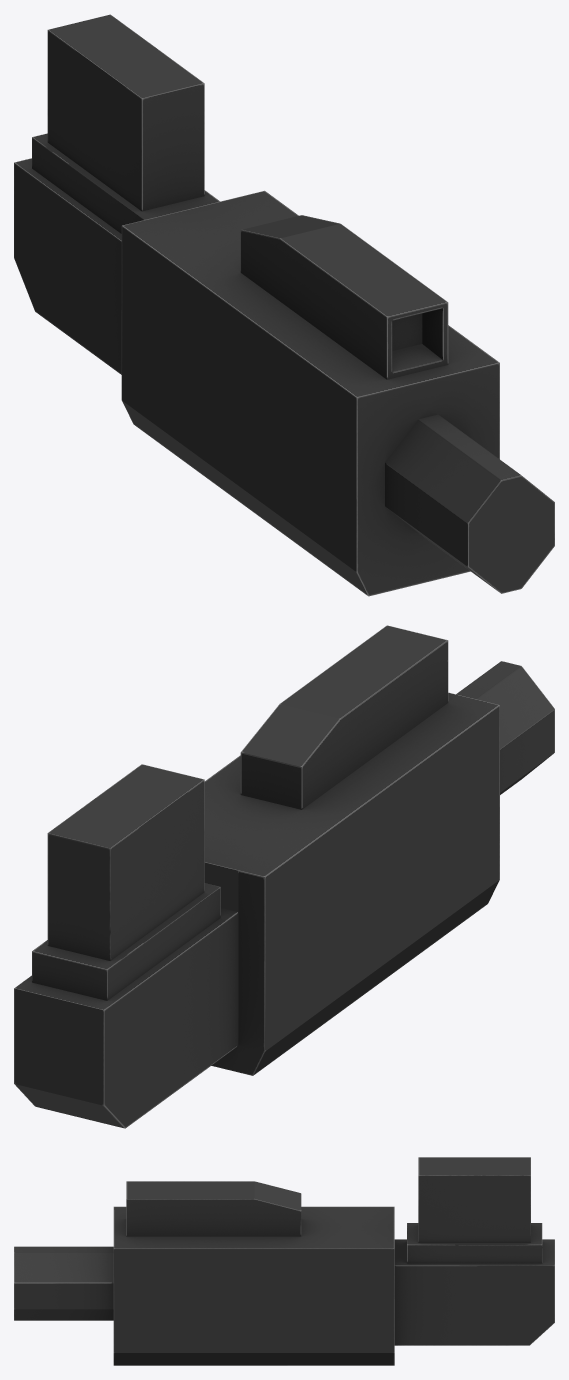
3 views of the same model, one above another, from view 1: azimuth 30°, elevation 25°; view 2: azimuth 150°, elevation 25°; view 3: azimuth 270°, elevation 25° (orthographic). The views are drawn at different scales.
Visible parts, largest first — view 1: Cube.086; view 2: Cube.086; view 3: Cube.086.
Part boxes in pixels (<box>): Cube.086: <box>14,14,554,596</box>; Cube.086: <box>14,625,554,1128</box>; Cube.086: <box>14,1157,554,1365</box>.
Bounding box in the file's own units: 0.703 × 1.43 × 3.85.
Materials: 1 (1 with a texture image).
